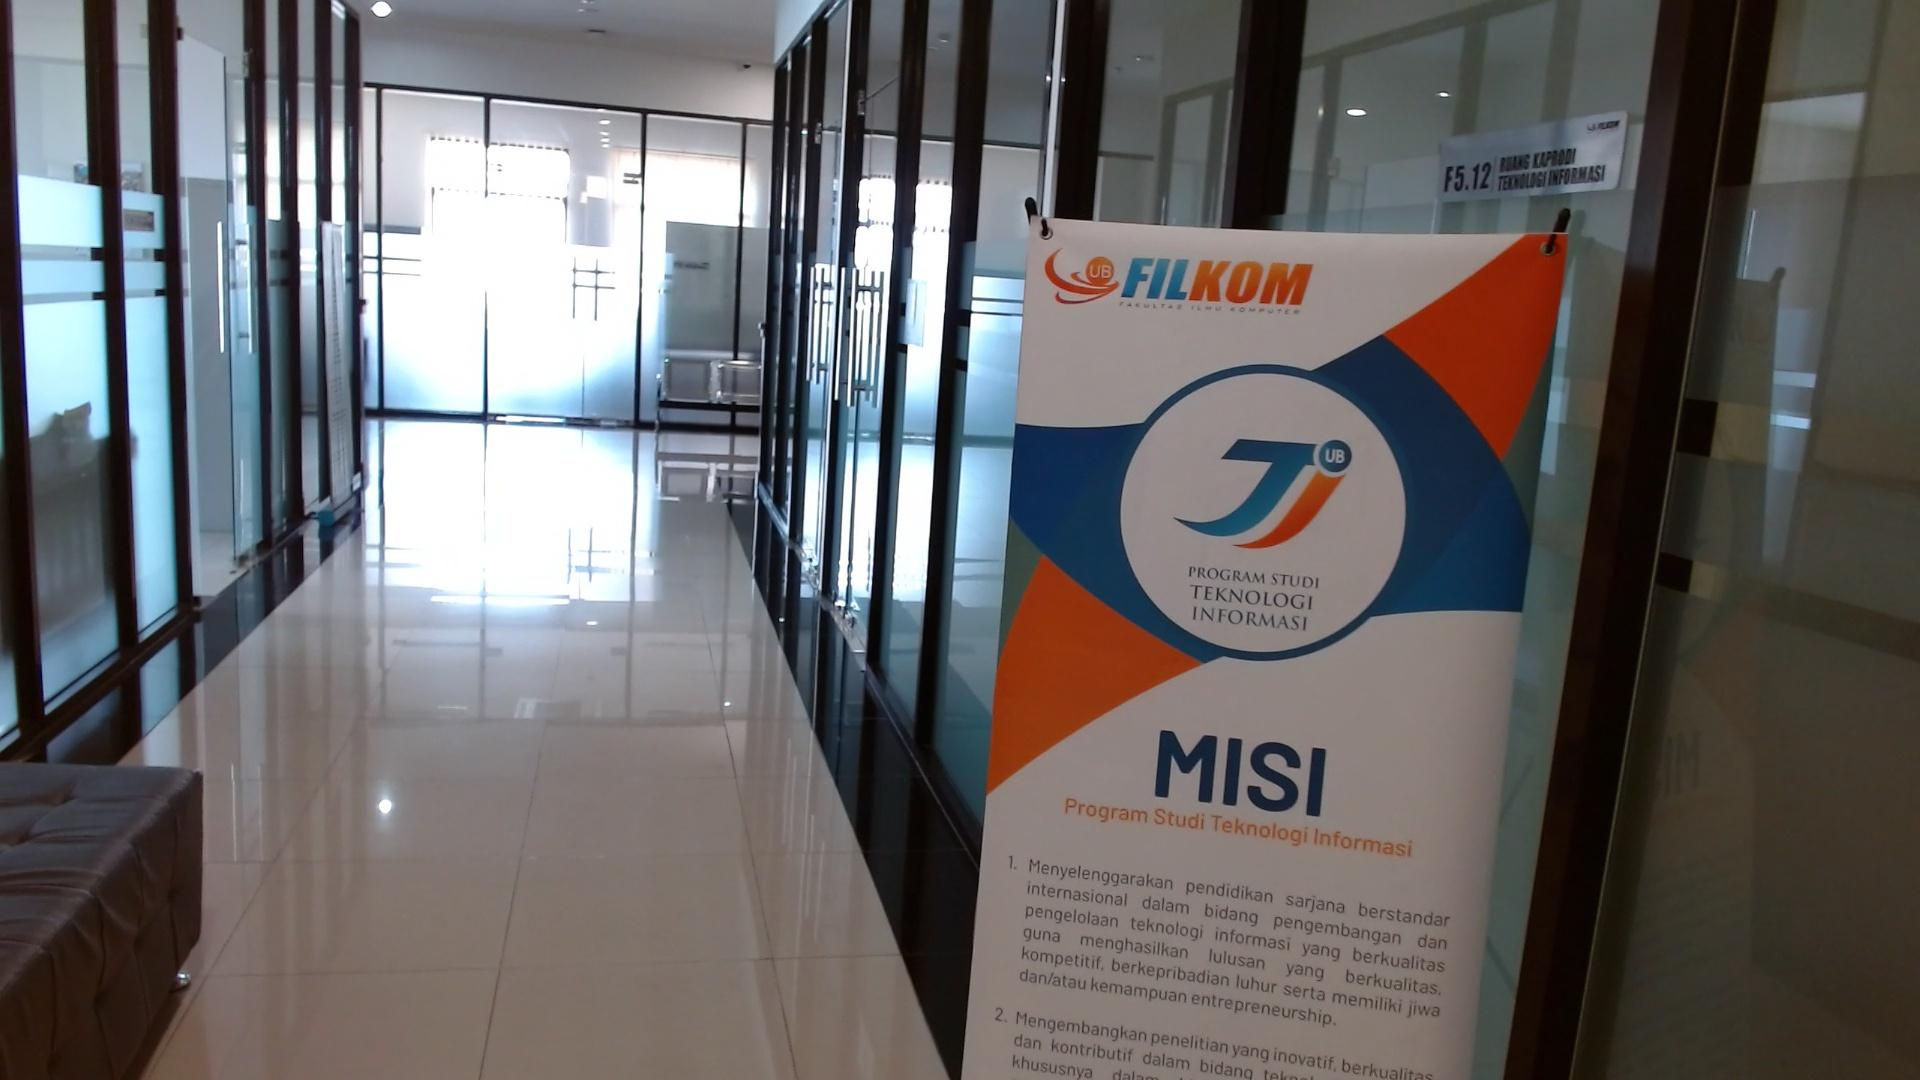plate: (1436, 109, 1629, 202)
